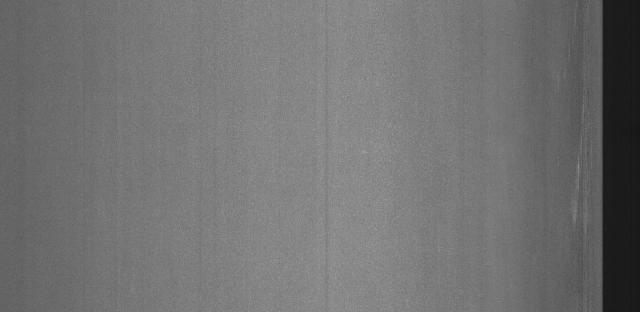silk_spot: (527, 115, 594, 234)
